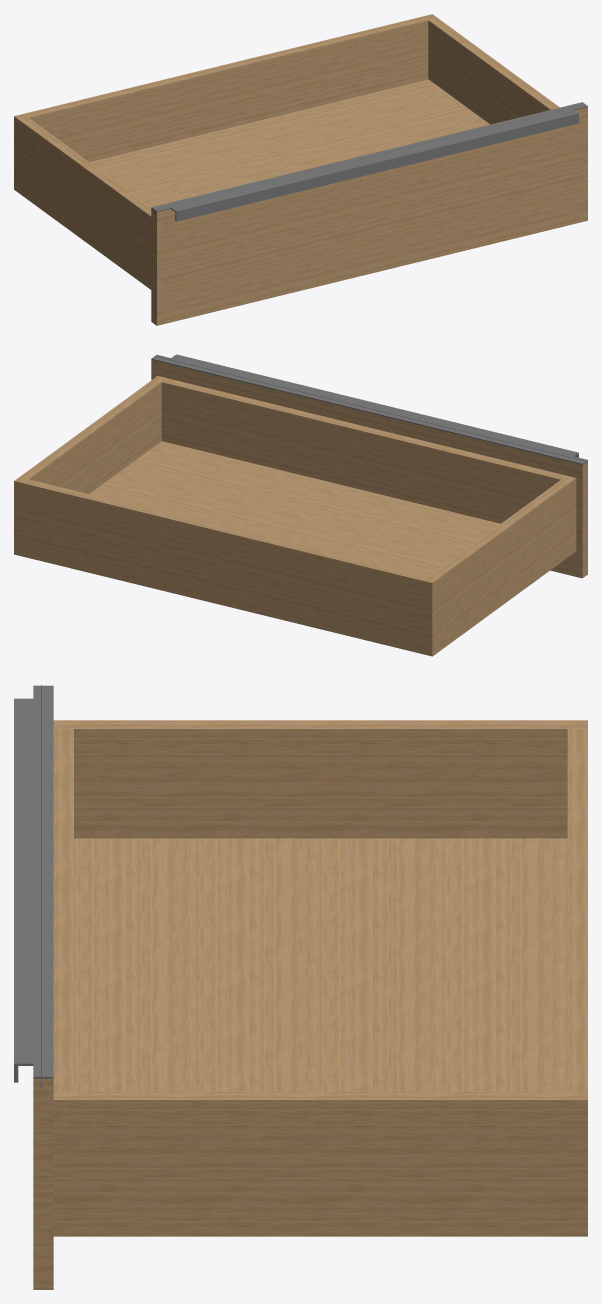
File: Untitle-1.glb
The picture shows the model from 3 angles, top to bottom: view 1: azimuth 30°, elevation 25°; view 2: azimuth 150°, elevation 25°; view 3: azimuth 270°, elevation 25°; orthographic projection. The views are drawn at different scales.
Parts seen in each view (by area): view 1: Geom3D.001; view 2: Geom3D.001; view 3: Geom3D.001.
Boxes of the visible parts, x1,y1,x2,y2 form: Geom3D.001: (14, 14, 587, 325); Geom3D.001: (14, 354, 587, 656); Geom3D.001: (14, 685, 587, 1289).
Bounding box in the file's own units: 0.866 × 0.2205 × 0.537.
2 materials, 1 textured.
